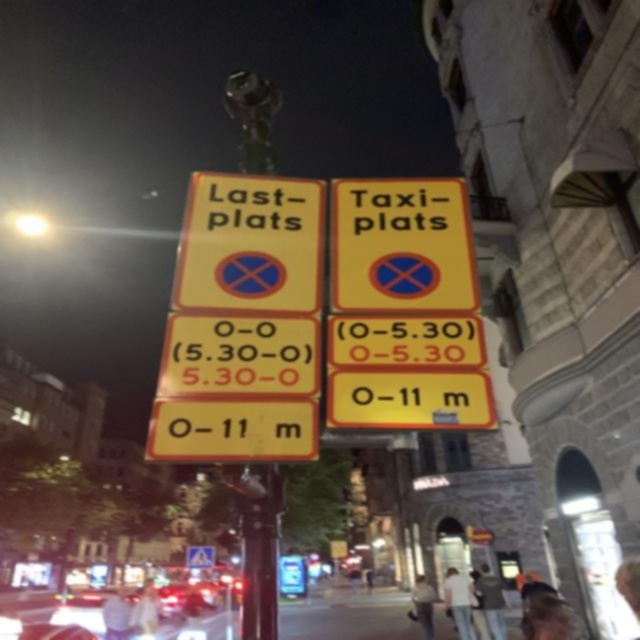lastplats: (163, 173, 327, 313)
